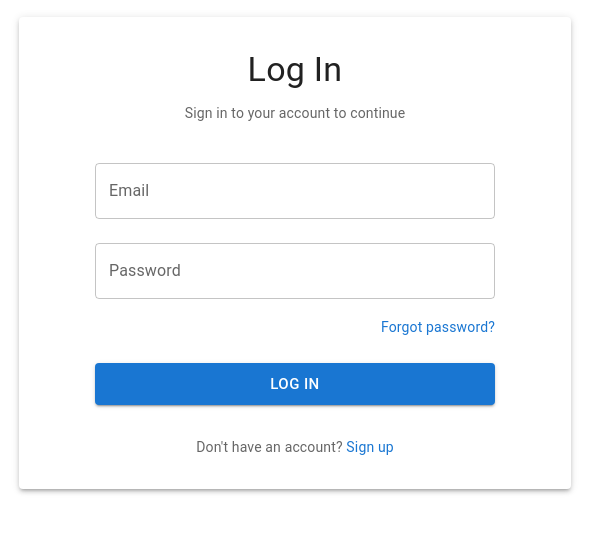
Scenario: LoginPage - Integration Tests › Form Validation › should validate required fields
What coordinates should you click on to do the following:
click the button "Log In"
I would click on:
 (295, 384)
Its box is [95, 363, 495, 405].
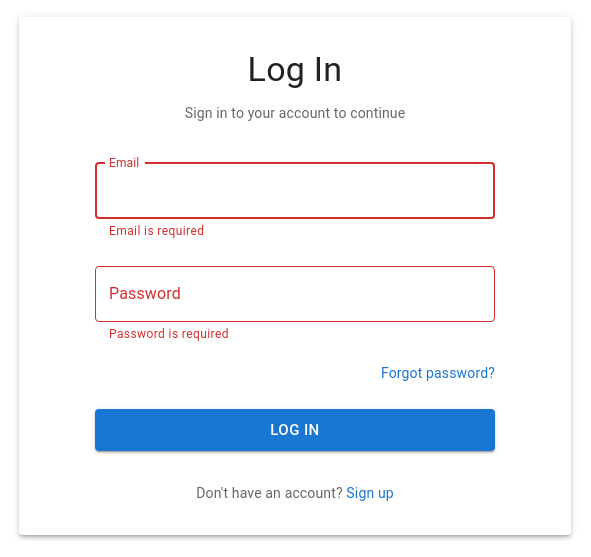
Check: the text "Email is required" is shown, box [109, 224, 204, 238]
Check: the text "Password is required" is shown, box [109, 327, 229, 341]
